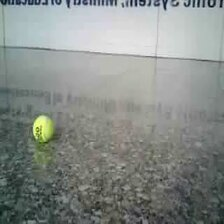tennis: (32, 115, 55, 143)
